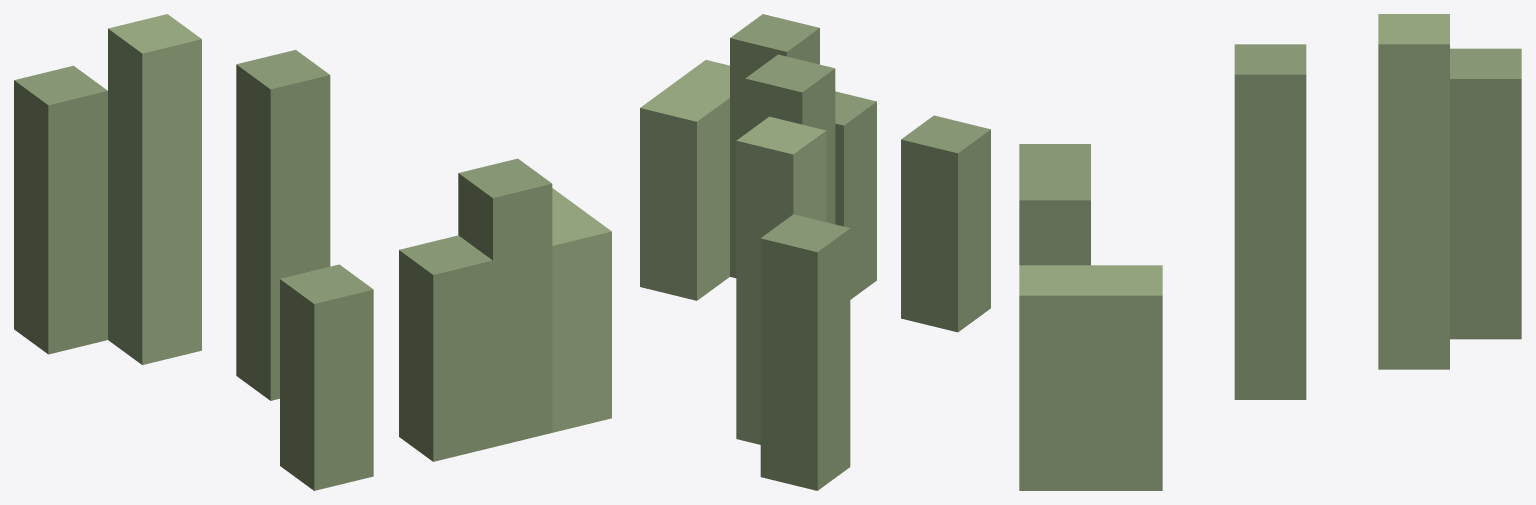
Rendered from acedera_de_altura_02.glb.
The picture shows the model from 3 angles, left to right: view 1: azimuth 30°, elevation 25°; view 2: azimuth 150°, elevation 25°; view 3: azimuth 270°, elevation 25°; orthographic projection. The views are drawn at different scales.
Visible parts, largest first — view 1: acedera_de_altura_02; view 2: acedera_de_altura_02; view 3: acedera_de_altura_02.
Boxes of the visible parts, x1,y1,x2,y2 form: acedera_de_altura_02: (14,14,611,490); acedera_de_altura_02: (640,14,990,490); acedera_de_altura_02: (1019,14,1521,490).
Bounding box in the file's own units: 0.6 × 0.5 × 0.7.
